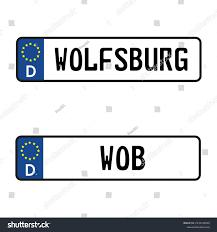B: (131, 144, 146, 171), (129, 47, 143, 72)
F: (99, 46, 112, 72)
G: (174, 46, 189, 72)
L: (82, 47, 98, 71)
O: (115, 146, 130, 171), (69, 47, 84, 72)
R: (158, 46, 173, 72)
S: (114, 46, 128, 71)
U: (144, 47, 159, 72)
W: (98, 145, 114, 171), (53, 47, 68, 71)
